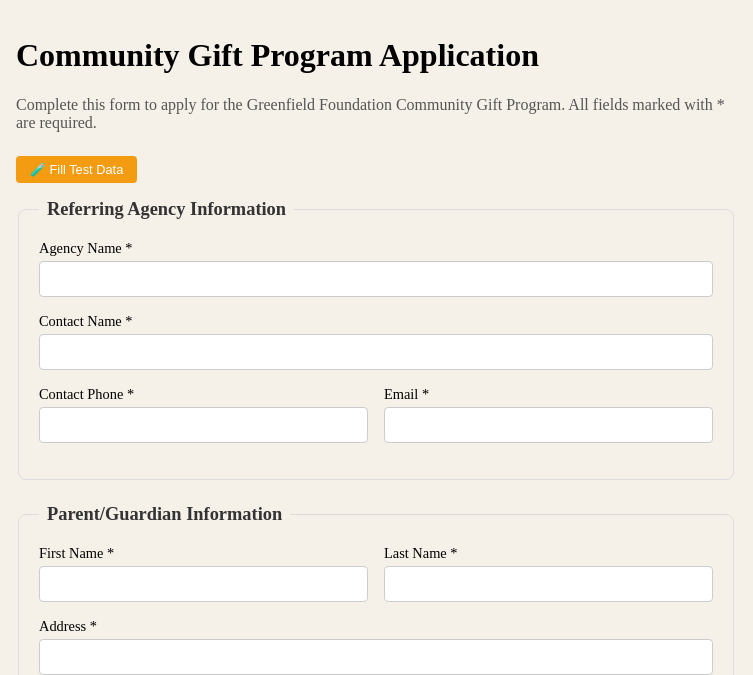
Scenario: ApplyView › required field validation › validates email format for agency contact email
Type "not-an-email" into the field with id "agency-contact-email".
click(548, 425); type("not-an-email")  # box [384,407,713,443]
(page scrolled)
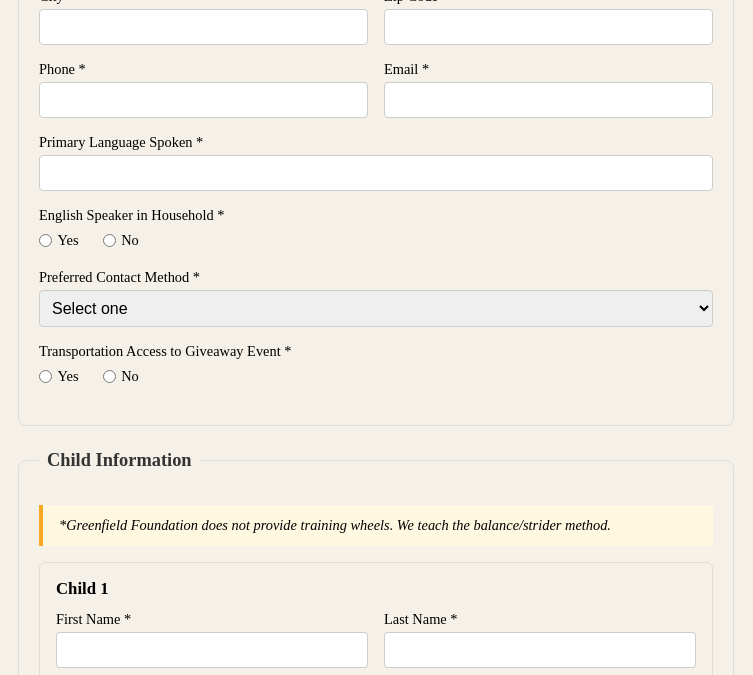
Submit the form
(page scrolled)
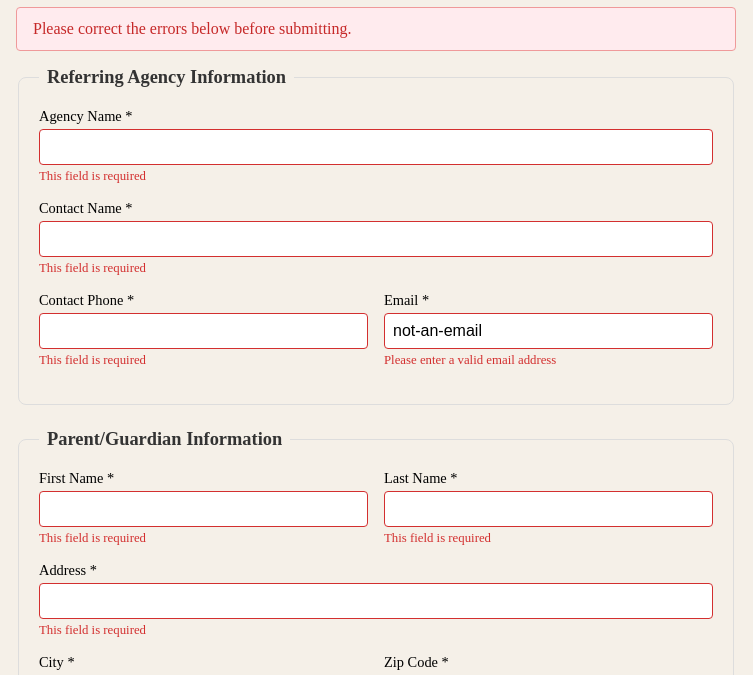
Now the message "Please enter a valid email address" is shown, box [384,353,556,367]
